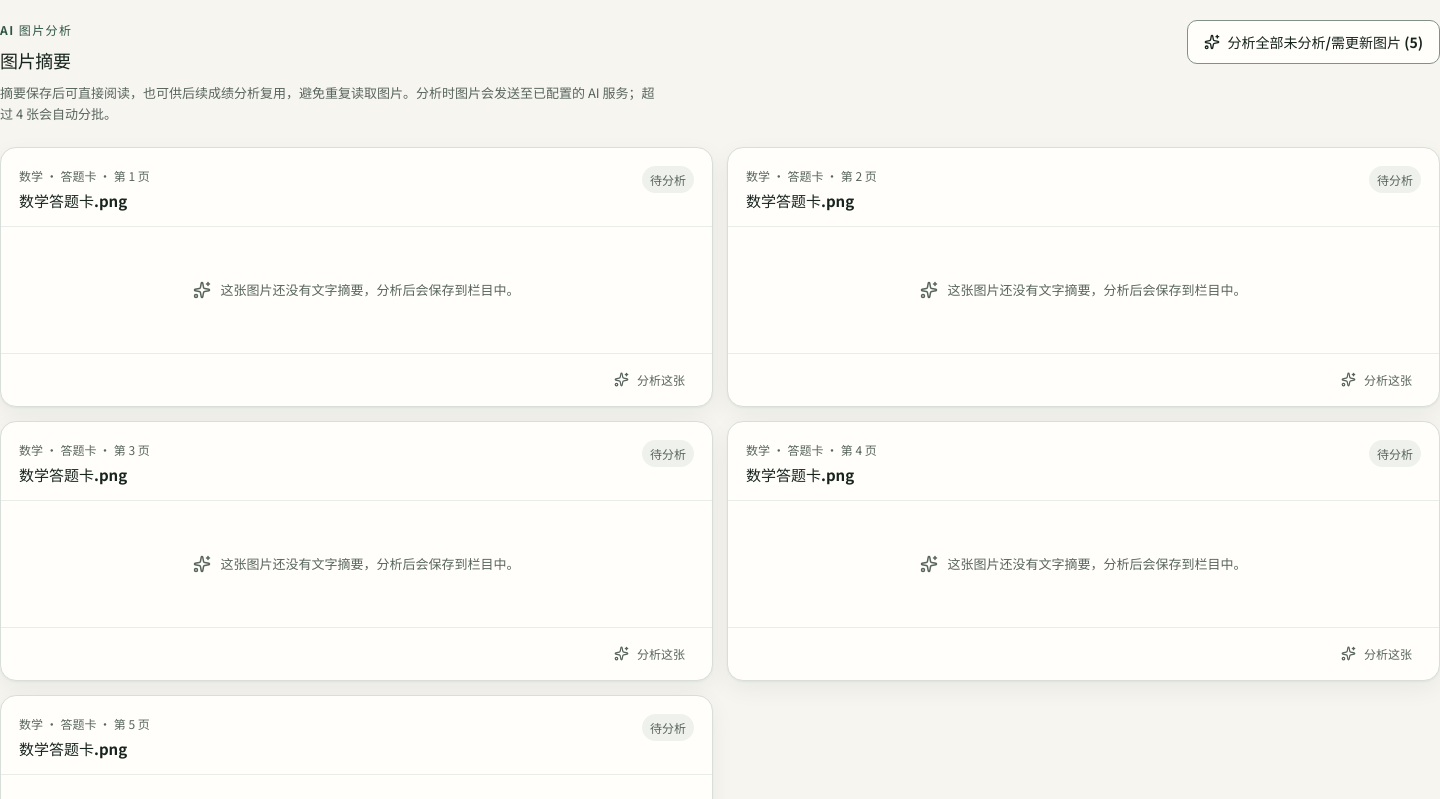
Test: AiImageAnalysisPanel › stops later batches when hitting daily rate limit and shows quota exceeded message
The width and height of the screenshot is (1440, 799).
Click the button "分析全部未分析/需更新图片 (5)": coordinates (1313, 42) left=1186, top=20, right=1439, bottom=64
(page scrolled)
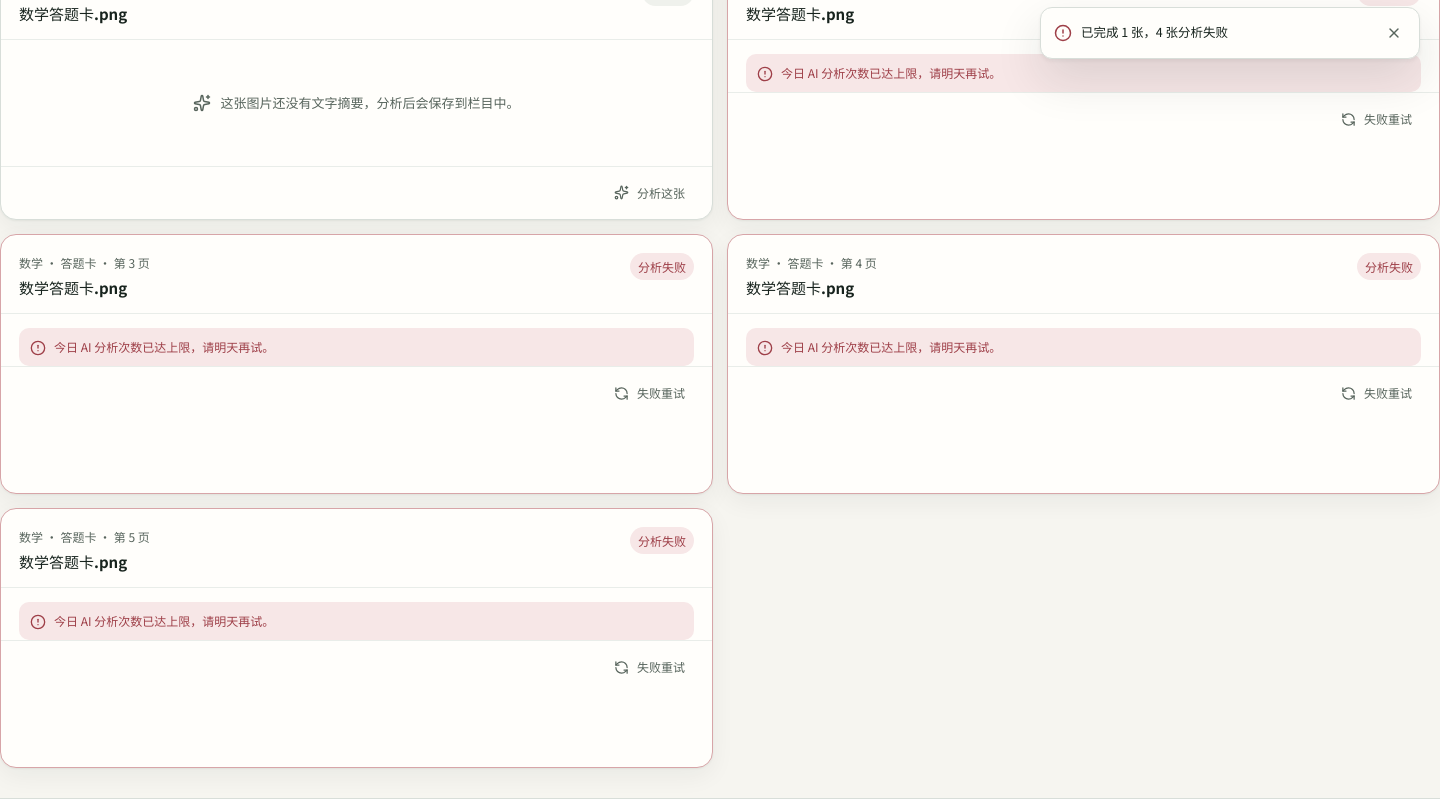
Check: the text "今日 AI 分析次数已达上限，请明天再试。" below "数学 · 答题卡 · 第 5 页" is shown, box left=54, top=612, right=274, bottom=629
